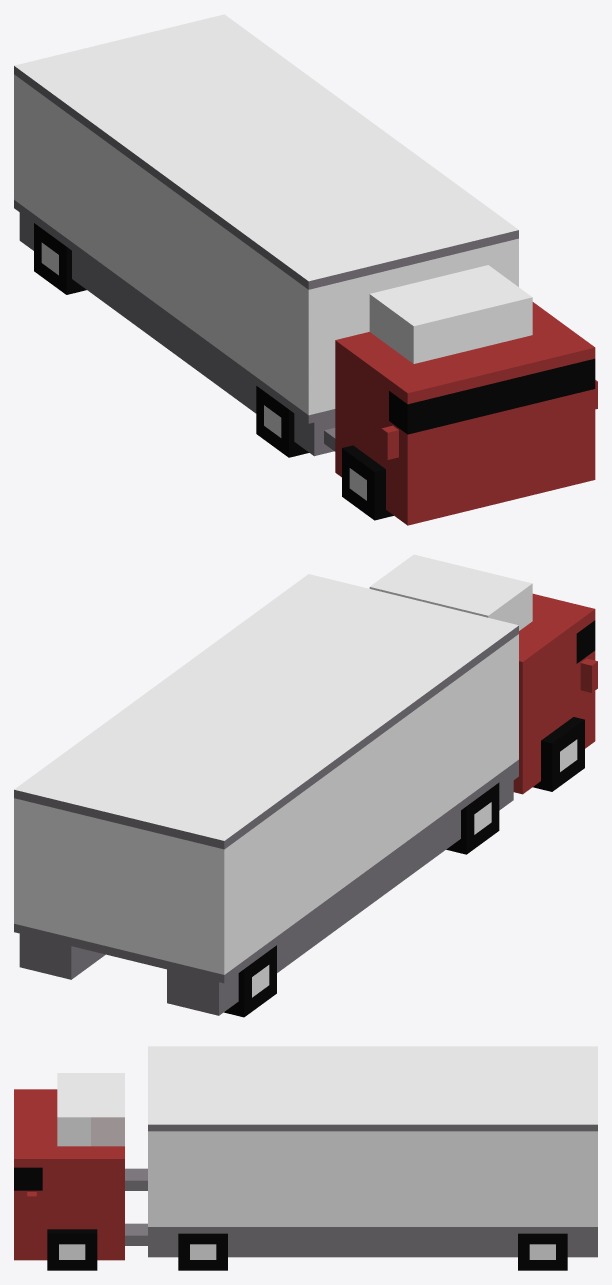
File: Truck.fbx
3 renders of one model, top to bottom at view 1: azimuth 30°, elevation 25°; view 2: azimuth 150°, elevation 25°; view 3: azimuth 270°, elevation 25°, orthographic. The views are drawn at different scales.
Parts seen in each view (by area): view 1: Plane.003; view 2: Plane.003; view 3: Plane.003.
Part boxes in pixels (x1=…): Plane.003: x1=14, y1=14, x2=597, y2=525; Plane.003: x1=14, y1=554, x2=597, y2=1017; Plane.003: x1=14, y1=1046, x2=597, y2=1270.
Size of the model in its own units: 89.74 by 282 by 77.82.
1 material, 1 textured.
